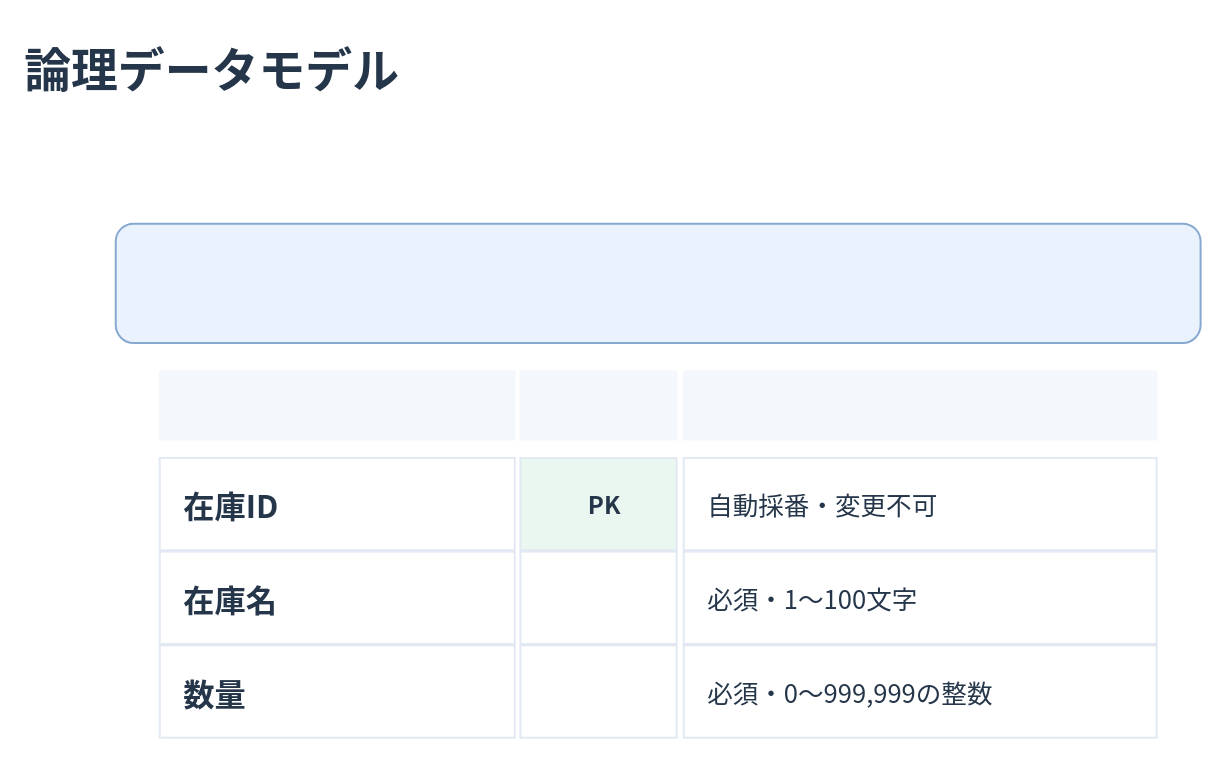
Image size: 1225x763. Some labels were removed from this diagram. Here are the shapes that lost their labels. From the top down, the centre of each, then its label:
At [657,282]: "在庫".
At [336,405]: "属性".
At [598,405]: "識別".
At [919,405]: "条件".
